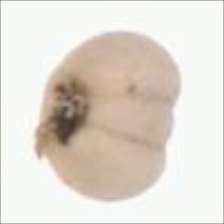L5: (31, 63, 93, 166), (88, 91, 178, 151)
L6: (30, 30, 183, 204)
